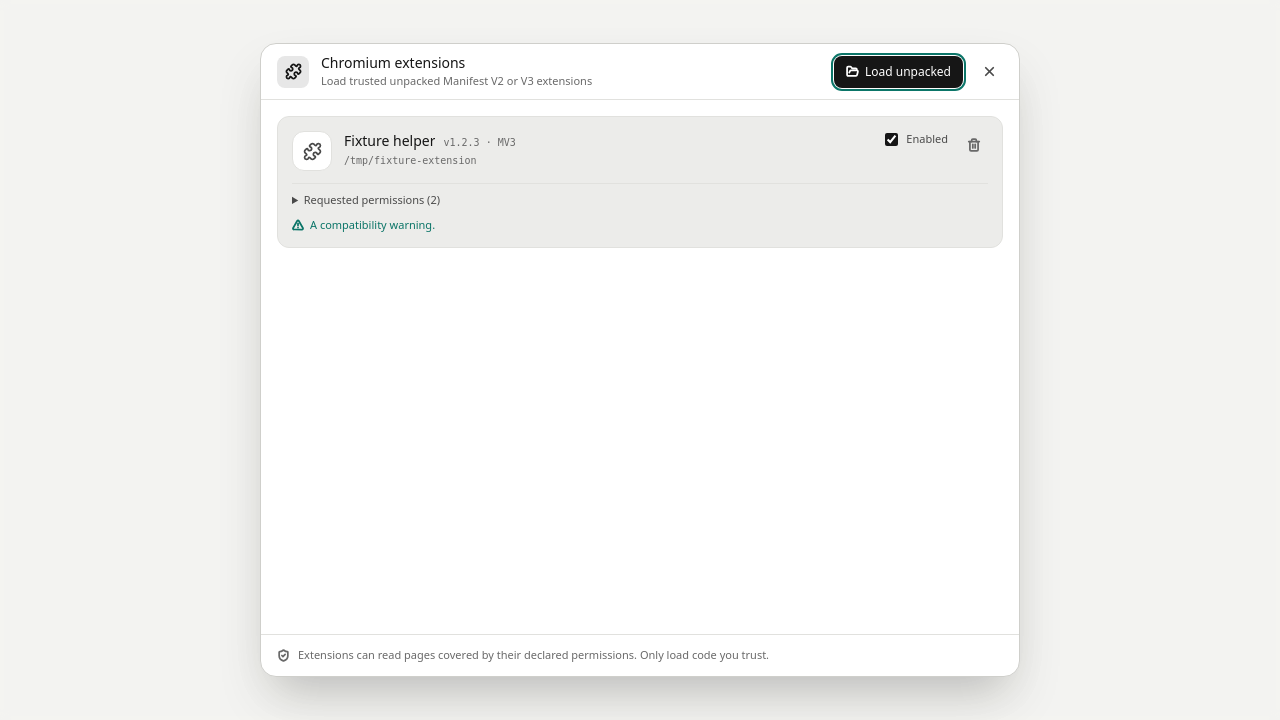
Test case: Extensions › loads extension details, permissions, and compatibility warnings
Expected: the dialog "extensions" is shown, left=260, top=43, right=1020, bottom=677
Expected: the heading "Fixture helper" is shown, left=344, top=131, right=436, bottom=151
Click the heading "Requested permissions (2)": (372, 200) left=304, top=192, right=440, bottom=207
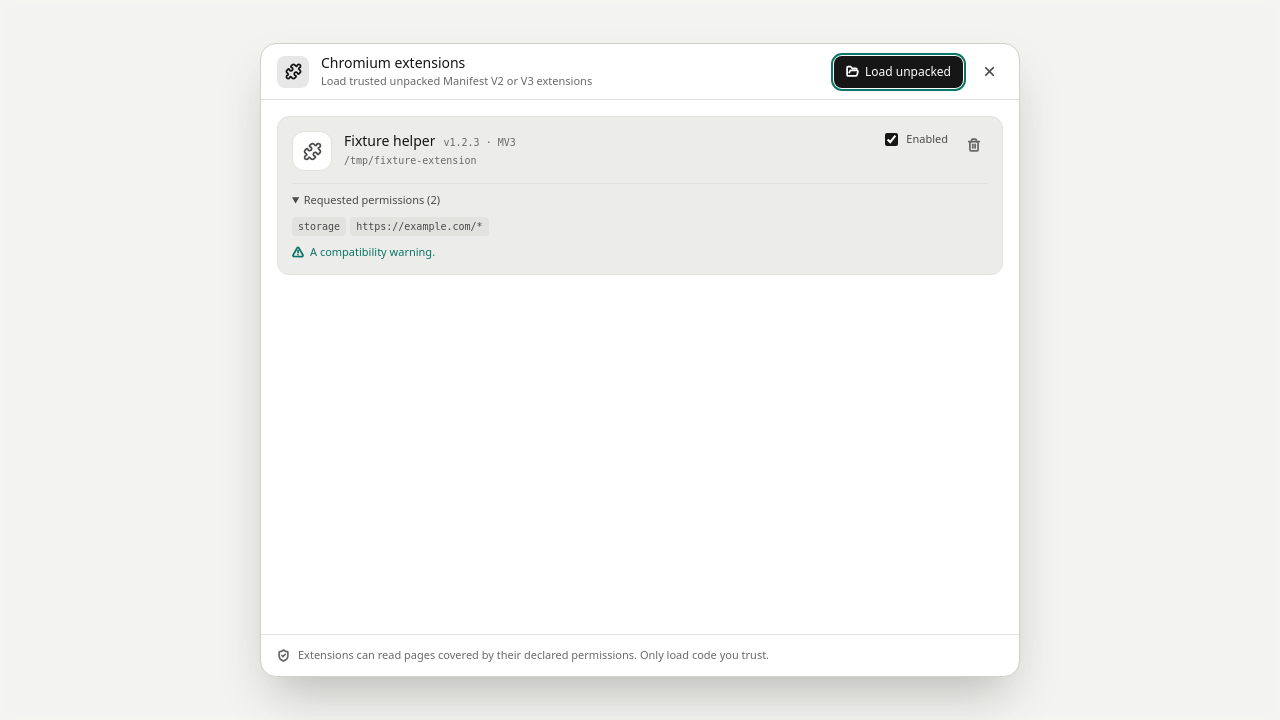
Expected: the text "storage" is shown, left=292, top=217, right=346, bottom=236
